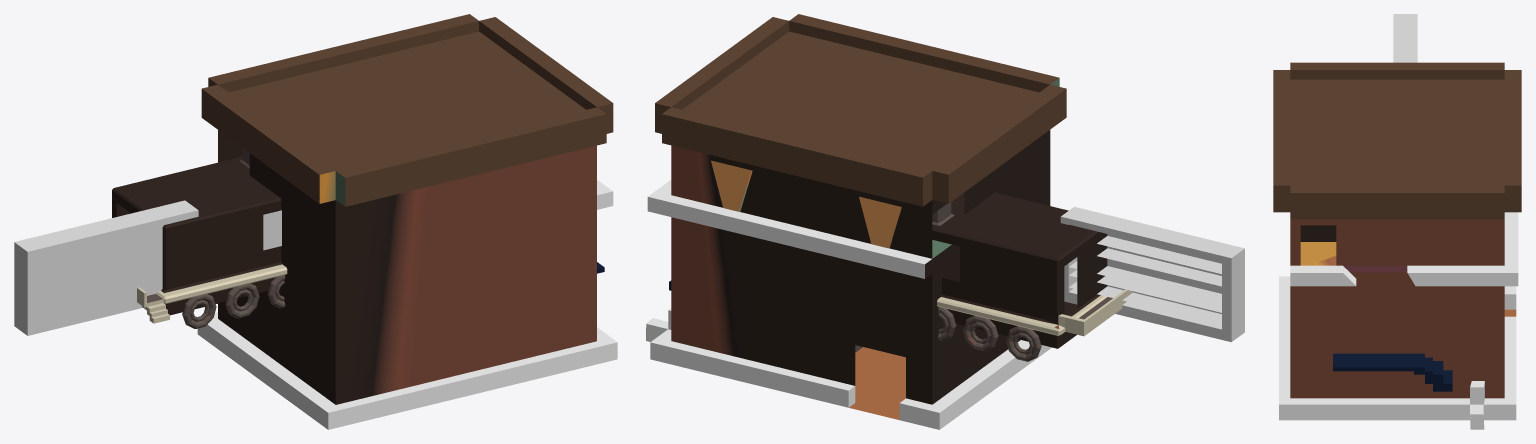
The model's file is Otra pared.fbx.
3 views of the same model, side by side, from view 1: azimuth 30°, elevation 25°; view 2: azimuth 150°, elevation 25°; view 3: azimuth 270°, elevation 25° (orthographic). The views are drawn at different scales.
Parts seen in each view (by area): view 1: Plane, Cone, Cube, Cone.001, Plane.002; view 2: Plane, Cone, Cube, Plane.003, Cone.001; view 3: Plane, Cube.
Boxes of the visible parts, left/top/right/bottom form: Plane: left=197, top=14, right=617, bottom=429; Cone: left=112, top=148, right=287, bottom=323; Cube: left=14, top=200, right=198, bottom=335; Cone.001: left=182, top=275, right=285, bottom=328; Plane.002: left=263, top=210, right=281, bottom=250; Plane: left=646, top=14, right=1066, bottom=429; Cone: left=892, top=192, right=1132, bottom=348; Cube: left=1060, top=206, right=1244, bottom=342; Plane.003: left=711, top=160, right=901, bottom=248; Cone.001: left=938, top=307, right=1041, bottom=361; Plane: left=1273, top=62, right=1521, bottom=429; Cube: left=1393, top=14, right=1417, bottom=62.
Bounding box in the file's own units: 3398 × 1484 × 1465.
